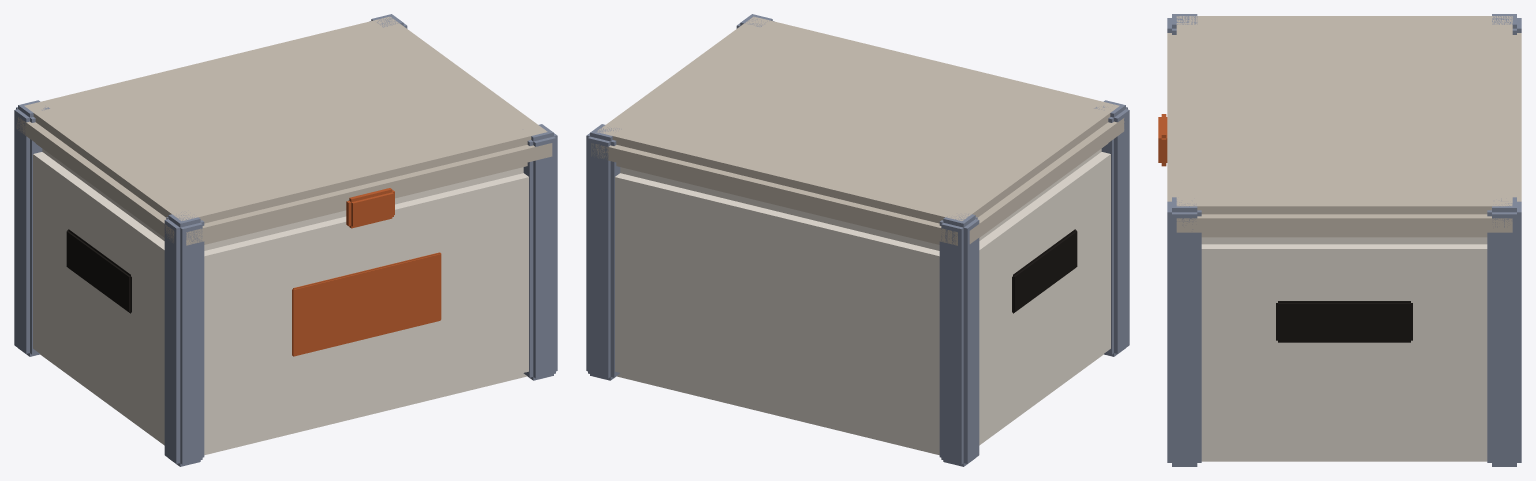
Rendered from supply_crate.glb.
The picture shows the model from 3 angles, left to right: view 1: azimuth 30°, elevation 25°; view 2: azimuth 150°, elevation 25°; view 3: azimuth 270°, elevation 25°; orthographic projection. The views are drawn at different scales.
Parts seen in each view (by area): view 1: Body_White, Body_Dim, Steel, Trim_Rust, Dark_Panel; view 2: Body_White, Body_Dim, Steel, Dark_Panel; view 3: Body_Dim, Body_White, Steel, Dark_Panel, Trim_Rust.
Part boxes in pixels (x1,y1,x2,y2): Body_White: (33, 148, 528, 455); Body_Dim: (16, 16, 552, 245); Steel: (14, 14, 557, 466); Trim_Rust: (292, 188, 441, 356); Dark_Panel: (66, 229, 131, 313); Body_White: (615, 148, 1110, 455); Body_Dim: (591, 16, 1124, 245); Steel: (586, 14, 1129, 466); Dark_Panel: (1012, 229, 1077, 313); Body_Dim: (1167, 16, 1521, 237); Body_White: (1201, 237, 1487, 461); Steel: (1167, 14, 1521, 466); Dark_Panel: (1276, 301, 1412, 342); Trim_Rust: (1158, 114, 1167, 166).
Size of the model in its own units: 0.41 by 0.25 by 0.318.
